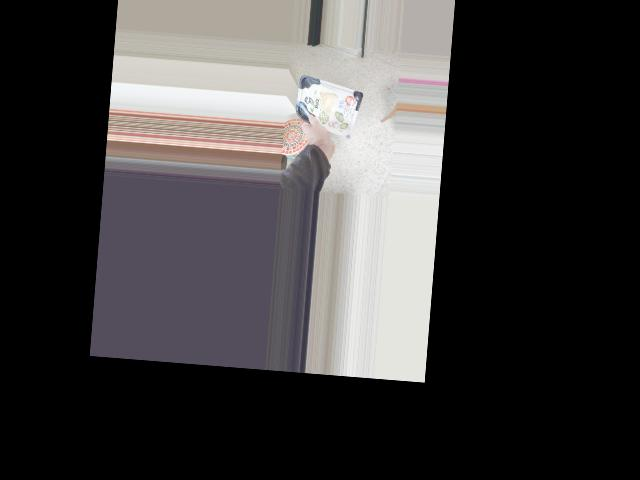cheese: (289, 79, 364, 133)
